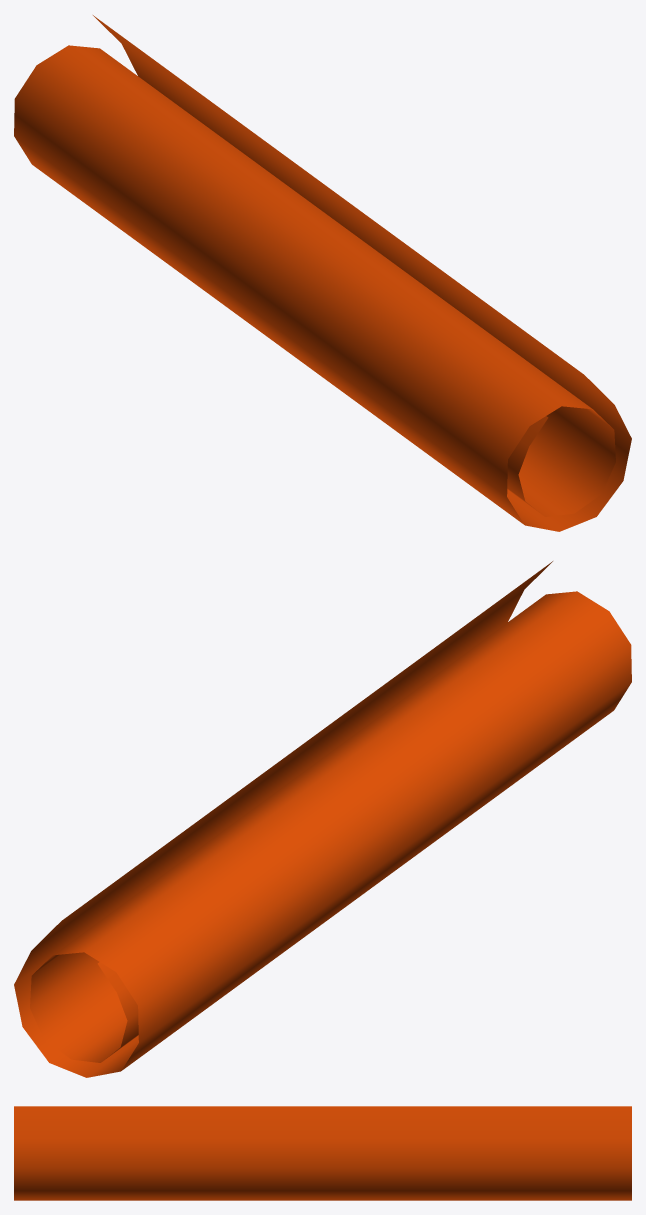
File: Scroll_Of_Eminence_Final.fbx
The picture shows the model from 3 angles, top to bottom: view 1: azimuth 30°, elevation 25°; view 2: azimuth 150°, elevation 25°; view 3: azimuth 270°, elevation 25°; orthographic projection. The views are drawn at different scales.
Visible parts, largest first — view 1: pPlane1; view 2: pPlane1; view 3: pPlane1.
Boxes of the visible parts, x1=… form: pPlane1: x1=14, y1=15, x2=631, y2=531; pPlane1: x1=14, y1=561, x2=631, y2=1077; pPlane1: x1=14, y1=1106, x2=631, y2=1200.
Bounding box in the file's own units: 0.9501 × 1.1 × 6.5.
